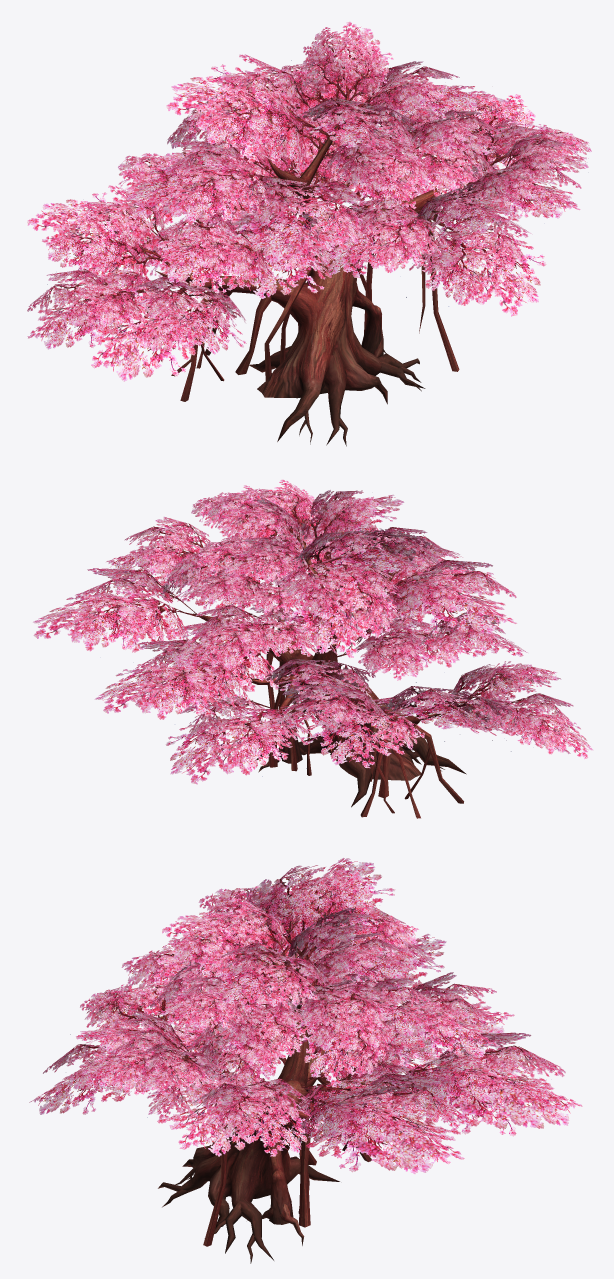
File: M5_P_TaoShu01.FBX
3 views of the same model, one above another, from view 1: azimuth 30°, elevation 25°; view 2: azimuth 150°, elevation 25°; view 3: azimuth 270°, elevation 25° (orthographic). The views are drawn at different scales.
Parts seen in each view (by area): view 1: M5_P_TaoShu01_02, M5_P_TaoShu01_01; view 2: M5_P_TaoShu01_02, M5_P_TaoShu01_01; view 3: M5_P_TaoShu01_02, M5_P_TaoShu01_01.
Part boxes in pixels (x1,y1,x2,y2): M5_P_TaoShu01_02: (27,21,591,381); M5_P_TaoShu01_01: (155,113,482,446); M5_P_TaoShu01_02: (33,479,593,784); M5_P_TaoShu01_01: (193,535,466,818); M5_P_TaoShu01_02: (29,858,582,1173); M5_P_TaoShu01_01: (131,936,412,1263).
Size of the model in its own units: 2282 by 1280 by 2022.
